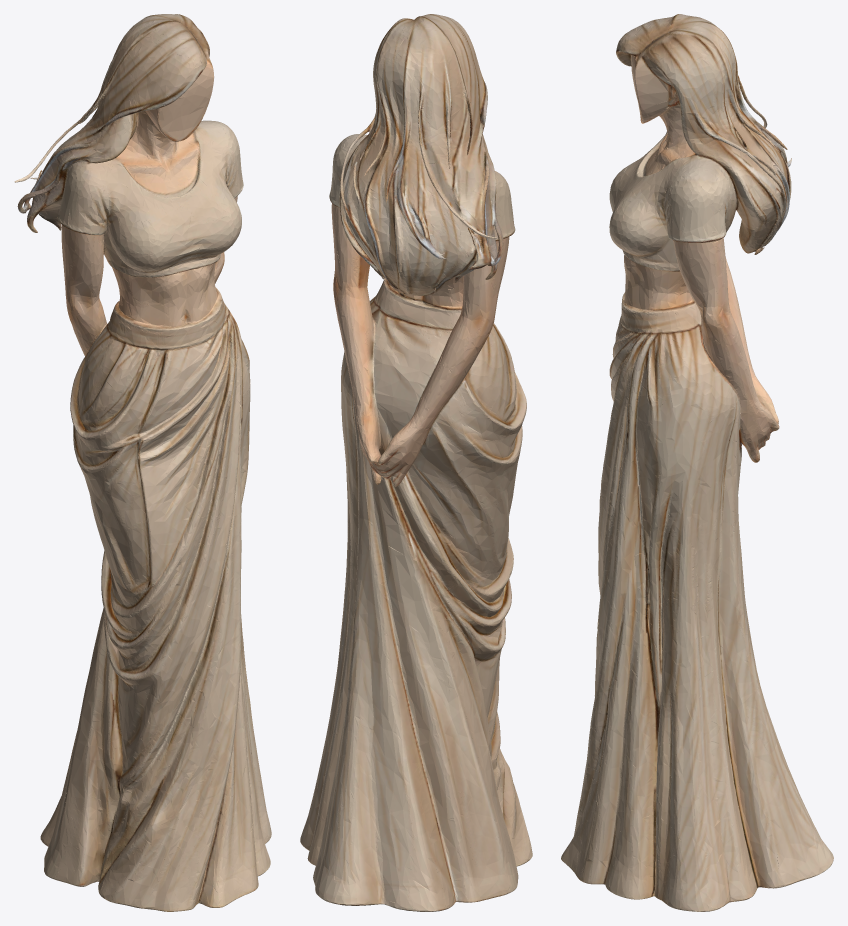
The model's file is other-shapewear.simplified.glb.
3 renders of one model, left to right at view 1: azimuth 30°, elevation 25°; view 2: azimuth 150°, elevation 25°; view 3: azimuth 270°, elevation 25°, orthographic.
Parts seen in each view (by area): view 1: world; view 2: world; view 3: world.
Part boxes in pixels (box(x1,y1,x2,y2)): world: box(14, 14, 271, 911); world: box(300, 14, 532, 911); world: box(561, 14, 833, 911).
Size of the model in its own units: 0.5529 by 1.99 by 0.5831.
1 material, 1 textured.
